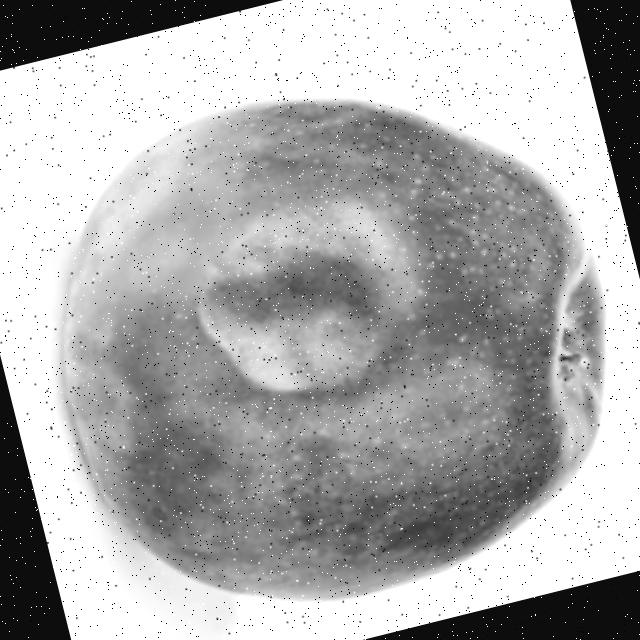Rotten: (3, 28, 640, 640)
